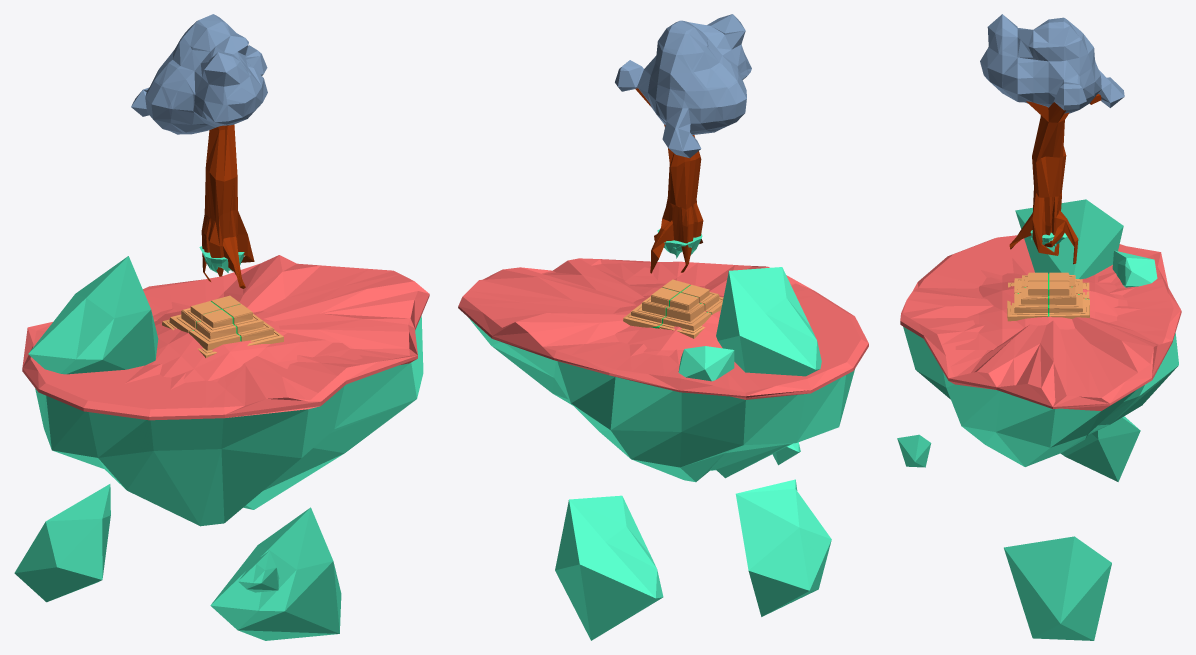
File: ile8.fbx
The picture shows the model from 3 angles, left to right: view 1: azimuth 30°, elevation 25°; view 2: azimuth 150°, elevation 25°; view 3: azimuth 270°, elevation 25°; orthographic projection. The views are drawn at different scales.
Visible parts, largest first — view 1: ground, rock, feuillage, Solide_platonicien_1, Solide_platonicien_3, Solide_platonicien, Terrain, tronc, stairs, Solide_platonicien_2; view 2: ground, rock, feuillage, Solide_platonicien_1, Solide_platonicien, Solide_platonicien_3, tronc, stairs, Terrain, Solide_platonicien_4; view 3: ground, rock, feuillage, Solide_platonicien_1, tronc, Solide_platonicien_3, Terrain, stairs, Solide_platonicien, Solide_platonicien_4, Solide_platonicien_2.
Part boxes in pixels (bbox=[...]): ground: bbox=[22, 255, 429, 420]; rock: bbox=[35, 316, 423, 526]; feuillage: bbox=[131, 14, 267, 134]; Solide_platonicien_1: bbox=[210, 507, 341, 640]; Solide_platonicien_3: bbox=[28, 256, 158, 374]; Solide_platonicien: bbox=[14, 484, 110, 602]; Terrain: bbox=[146, 308, 362, 382]; tronc: bbox=[201, 124, 254, 288]; stairs: bbox=[162, 295, 283, 357]; Solide_platonicien_2: bbox=[238, 551, 279, 592]; ground: bbox=[458, 258, 868, 399]; rock: bbox=[469, 318, 855, 482]; feuillage: bbox=[615, 14, 751, 157]; Solide_platonicien_1: bbox=[555, 495, 663, 640]; Solide_platonicien: bbox=[735, 479, 831, 616]; Solide_platonicien_3: bbox=[716, 267, 821, 376]; tronc: bbox=[635, 88, 703, 273]; stairs: bbox=[623, 279, 723, 338]; Terrain: bbox=[613, 267, 723, 356]; Solide_platonicien_4: bbox=[678, 346, 734, 381]; ground: bbox=[900, 235, 1181, 410]; rock: bbox=[903, 326, 1178, 466]; feuillage: bbox=[980, 14, 1124, 113]; Solide_platonicien_1: bbox=[1004, 536, 1111, 640]; tronc: bbox=[1009, 94, 1101, 264]; Solide_platonicien_3: bbox=[1015, 199, 1123, 279]; Terrain: bbox=[955, 273, 1127, 349]; stairs: bbox=[1007, 272, 1089, 321]; Solide_platonicien: bbox=[1060, 416, 1140, 481]; Solide_platonicien_4: bbox=[1112, 250, 1157, 287]; Solide_platonicien_2: bbox=[897, 434, 931, 467].
Size of the model in its own units: 291 by 463 by 203.
